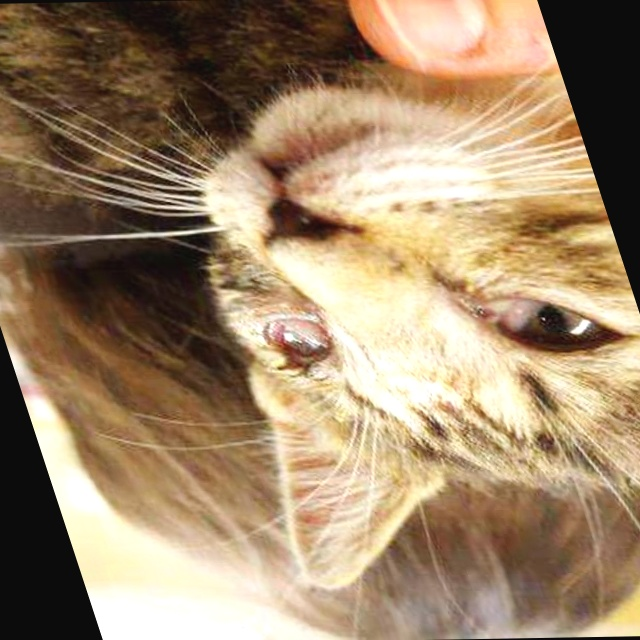eye_infection: (470, 289, 629, 356), (244, 304, 349, 372)
